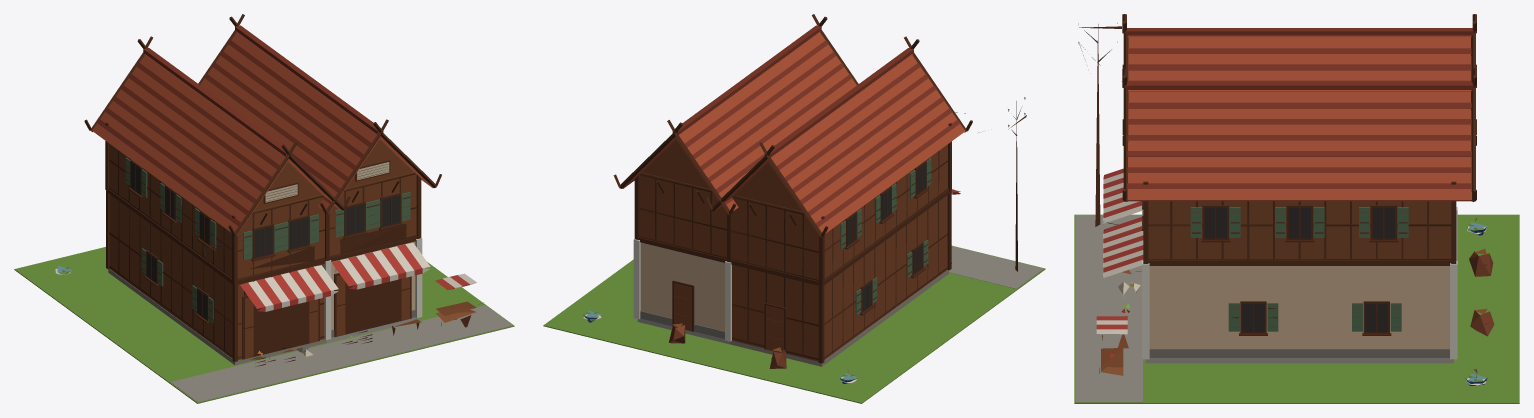
Rendered from shop_2.glb.
3 views of the same model, side by side, from view 1: azimuth 30°, elevation 25°; view 2: azimuth 150°, elevation 25°; view 3: azimuth 270°, elevation 25° (orthographic). The views are drawn at different scales.
Parts seen in each view (by area): view 1: body, windows; view 2: body, windows; view 3: body, windows.
Boxes of the visible parts, x1=… form: body: x1=14, y1=14, x2=514, y2=403; windows: x1=131, y1=162, x2=400, y2=319; body: x1=543, y1=14, x2=1045, y2=403; windows: x1=847, y1=163, x2=926, y2=310; body: x1=1074, y1=14, x2=1519, y2=403; windows: x1=1129, y1=207, x2=1394, y2=331.
Size of the model in its own units: 15.9 by 10.52 by 15.9.
